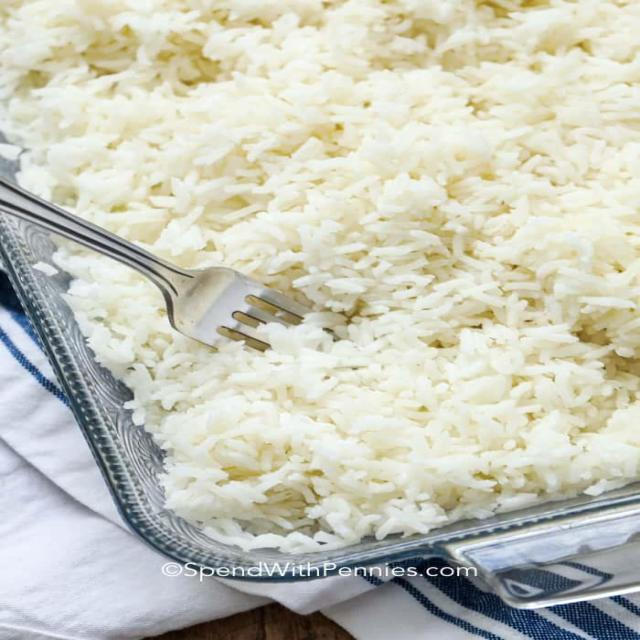rice: (0, 0, 633, 544)
